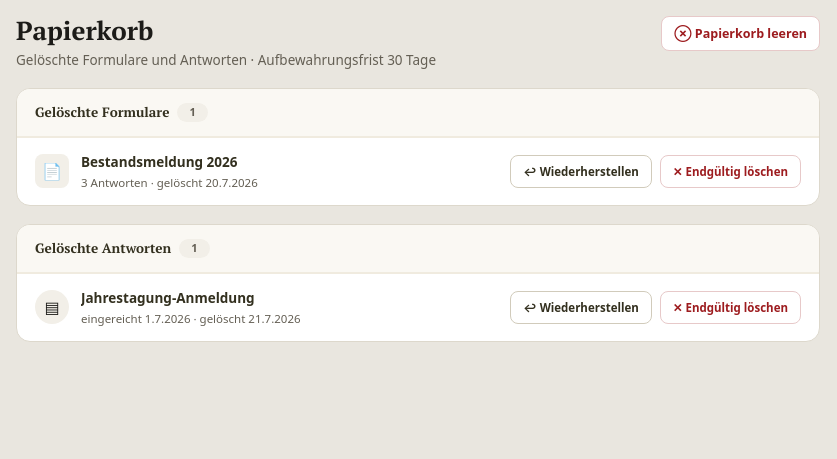
Test: TrashView › mit canPurge › asks before „Papierkorb leeren" and sends the request only after confirming
expect the text "Bestandsmeldung 2026" is shown: met, box [81, 153, 238, 171]
Click the button "⊗ Papierkorb leeren" at [741, 34], box [661, 16, 820, 51]
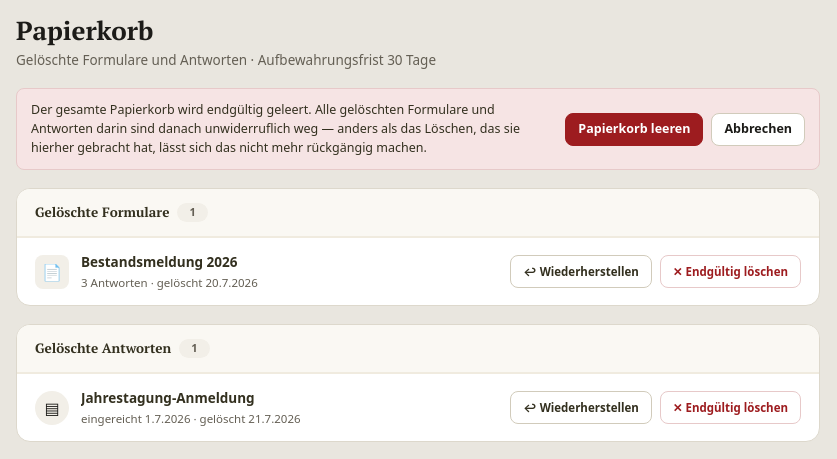
expect the message shows "nicht mehr rückgängig machen": met, box [31, 101, 520, 156]
Click the button "Abbrechen" at [758, 129], box [712, 113, 805, 146]
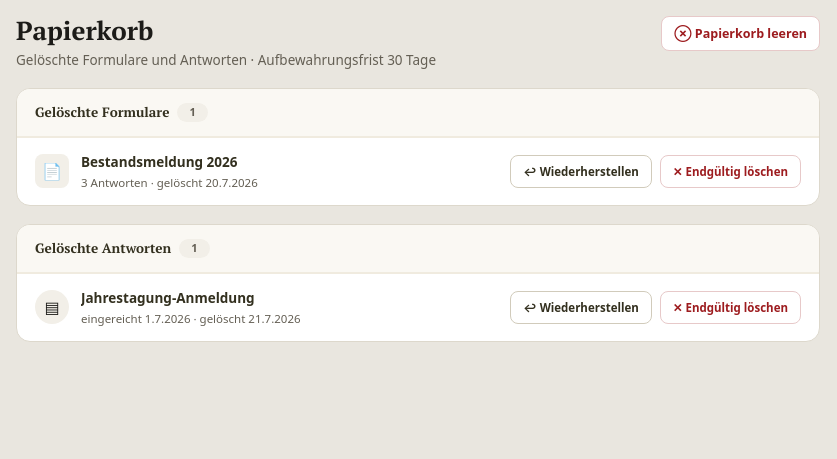
expect the button "⊗ Papierkorb leeren" is shown: met, box [661, 16, 820, 51]
